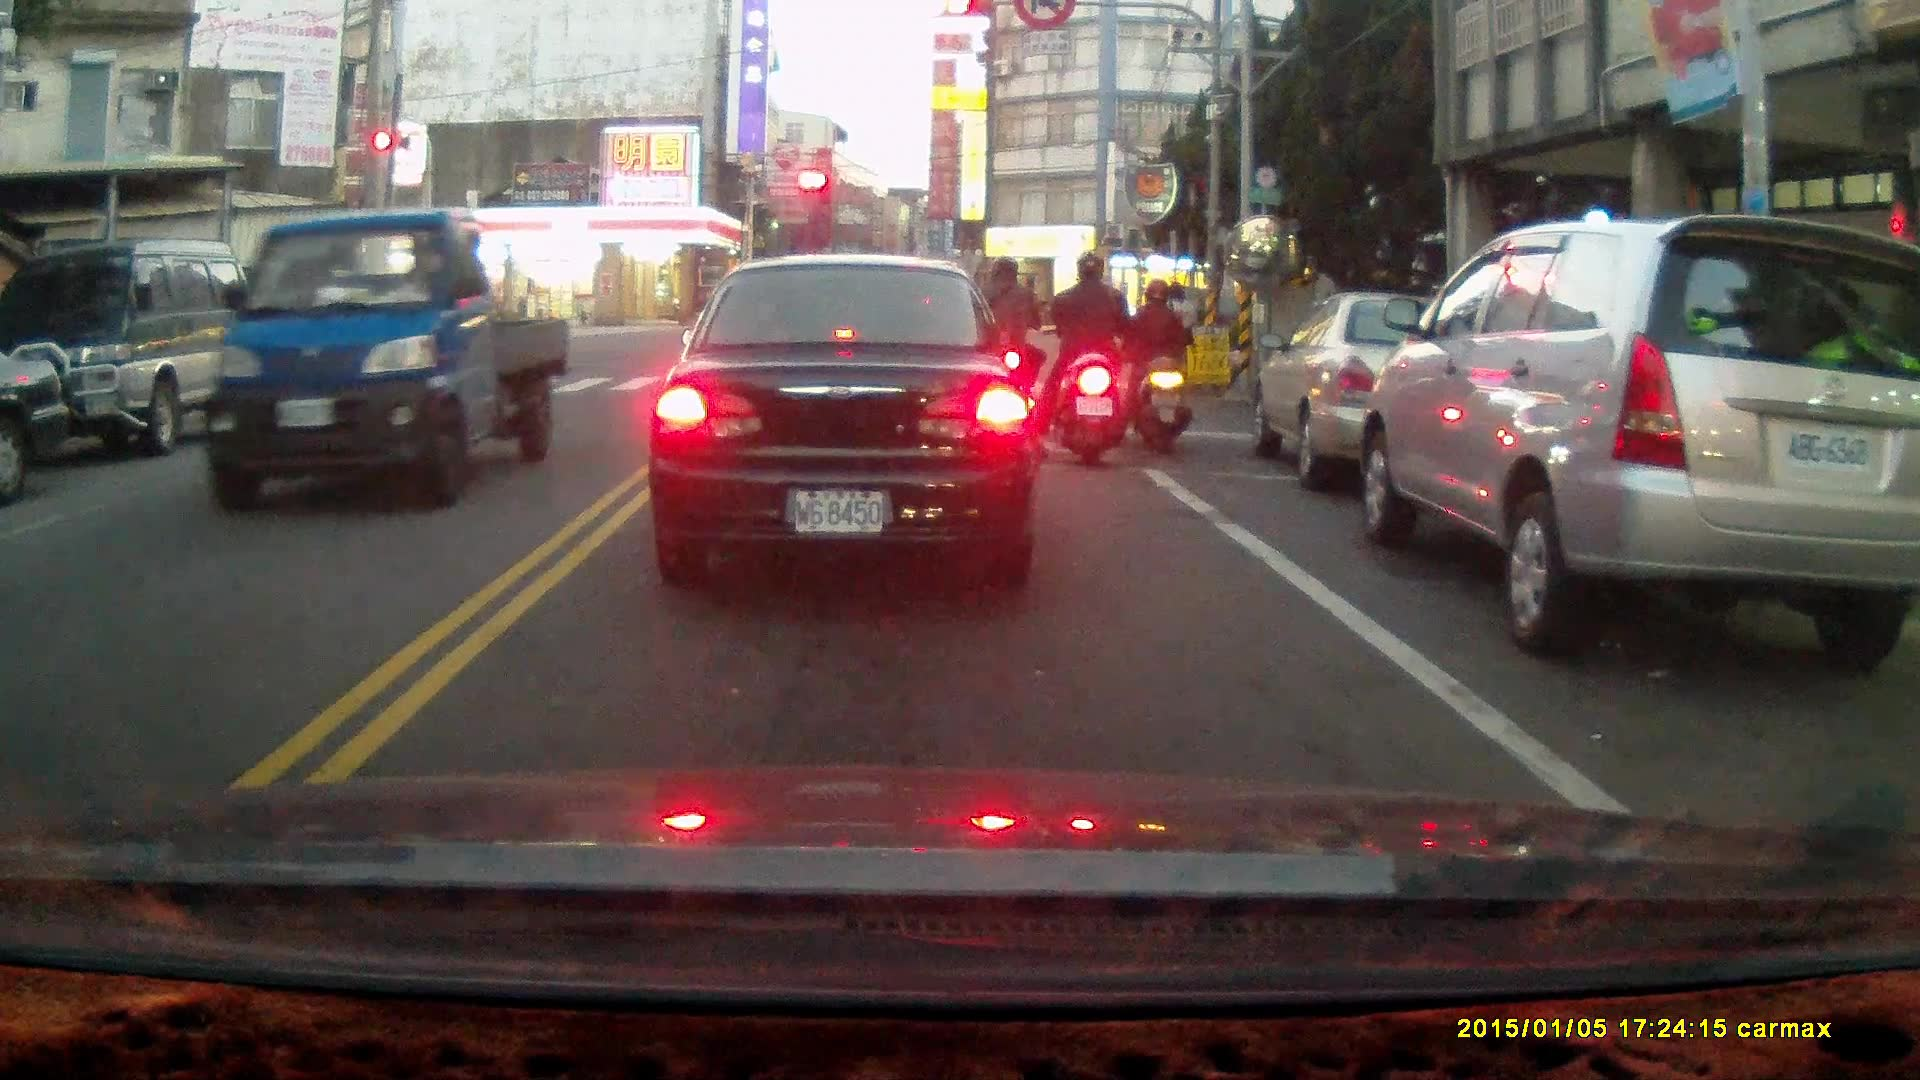pedestrian: (1156, 278, 1200, 399)
rider: (1035, 252, 1137, 464), (965, 256, 1044, 434), (1122, 277, 1190, 451)
vehicle: (1354, 212, 1920, 655), (647, 251, 1042, 589), (201, 205, 571, 510), (1251, 287, 1538, 494), (6, 235, 272, 457), (1, 323, 75, 504)
